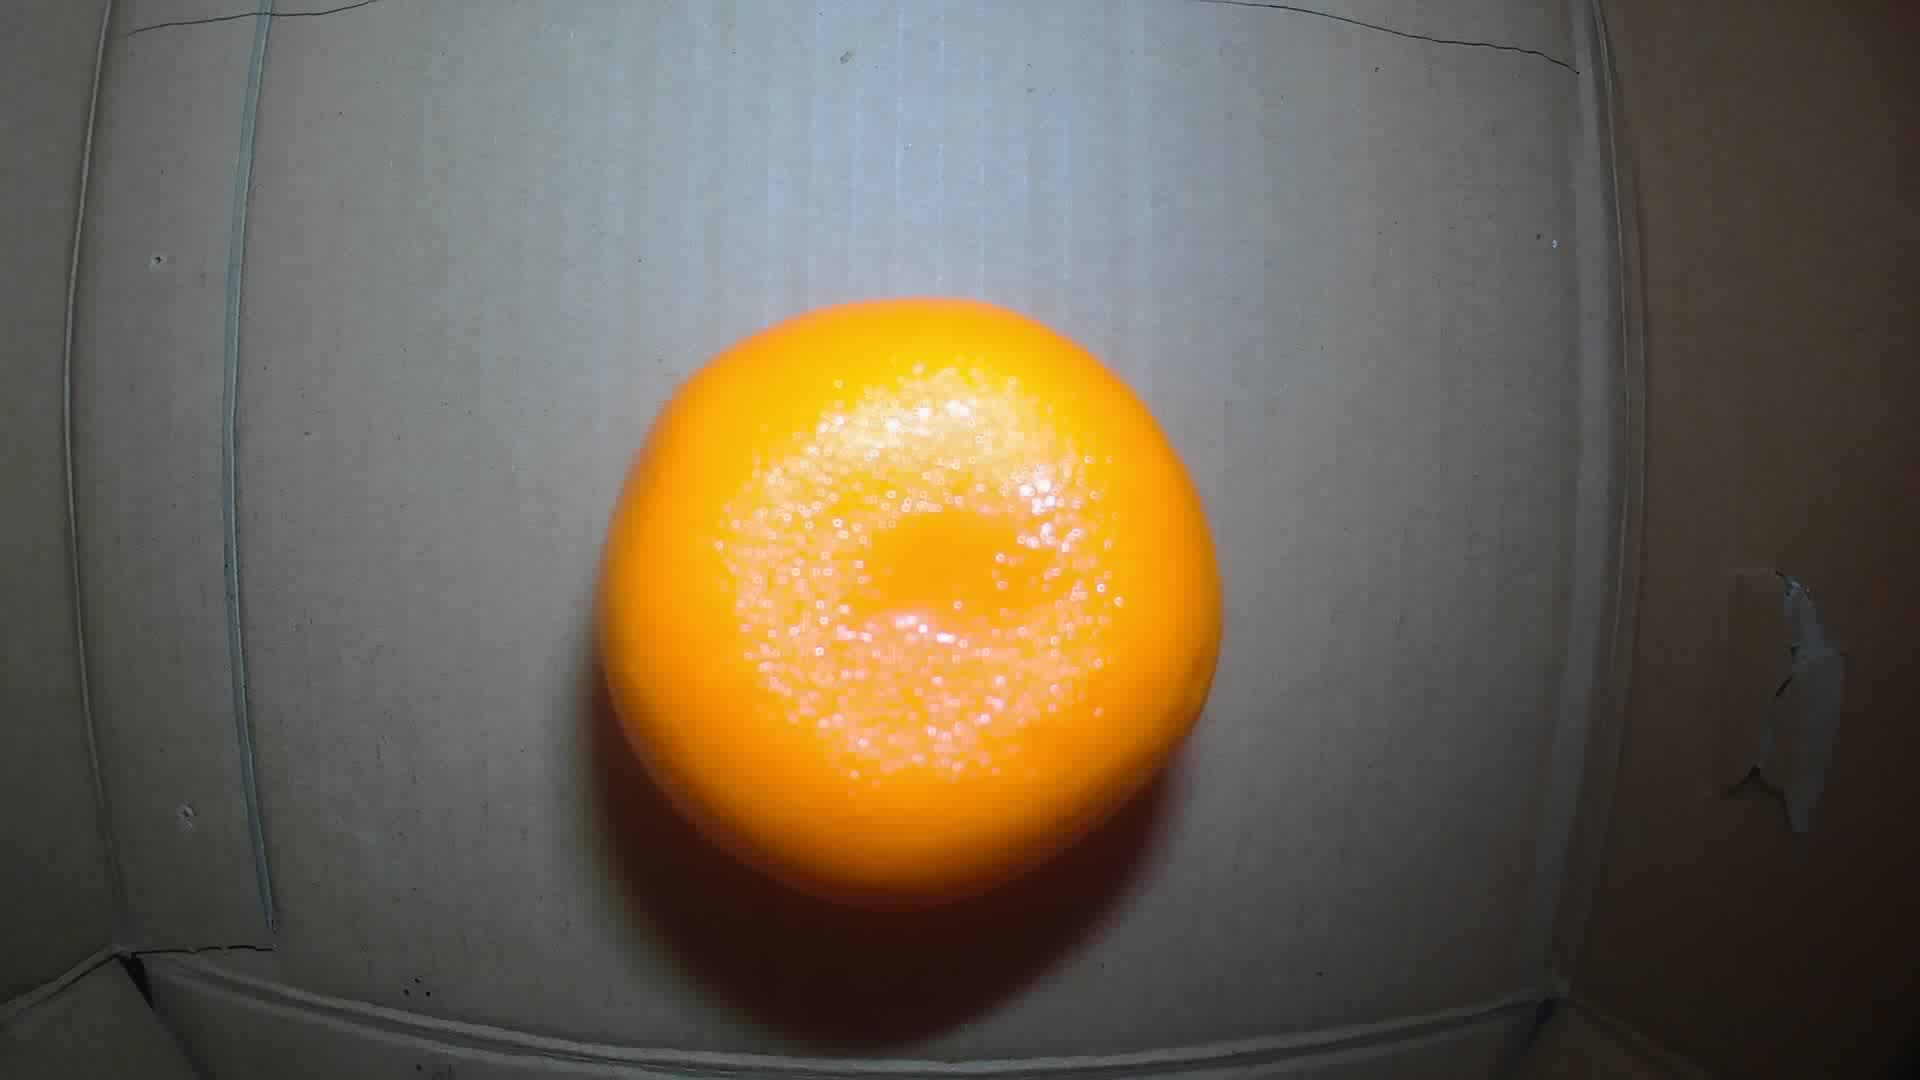orange: (589, 295, 1221, 909)
